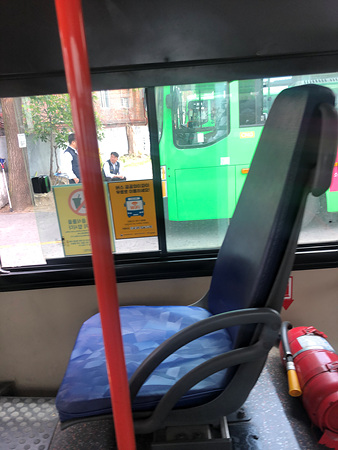seat: (58, 87, 329, 430)
